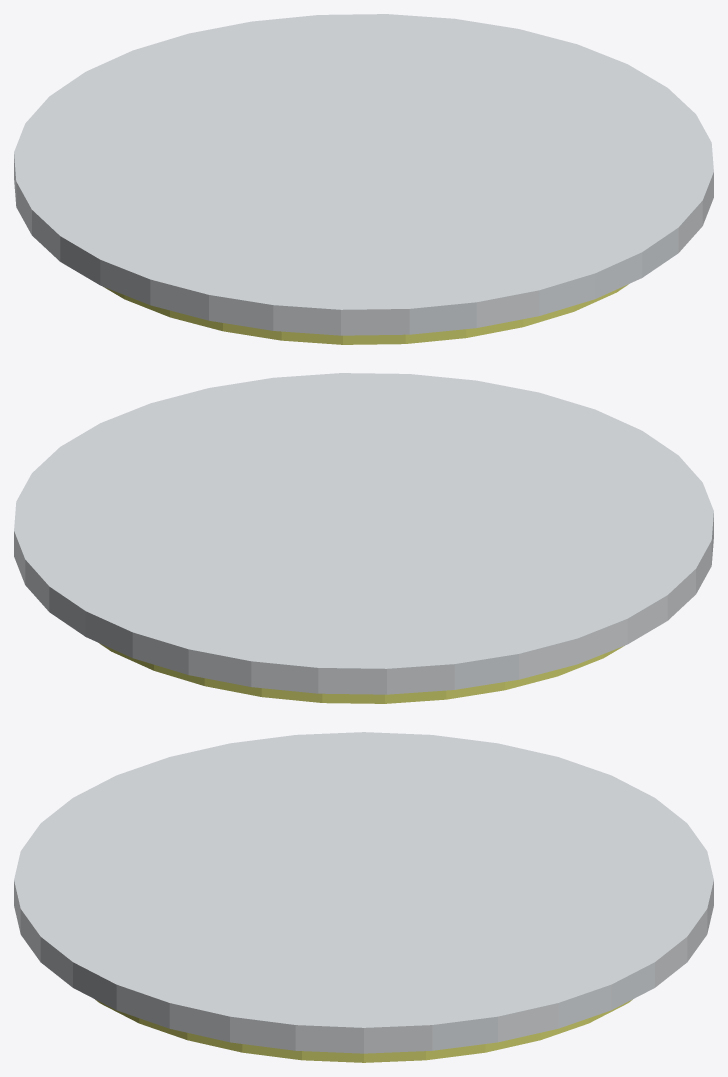
File: lamp gang.fbx
3 views of the same model, one above another, from view 1: azimuth 30°, elevation 25°; view 2: azimuth 150°, elevation 25°; view 3: azimuth 270°, elevation 25° (orthographic).
Visible parts, largest first — view 1: gang lamp1; view 2: gang lamp1; view 3: gang lamp1.
Part boxes in pixels (left/top/right/bottom): gang lamp1: left=14, top=14, right=713, bottom=344; gang lamp1: left=14, top=373, right=713, bottom=703; gang lamp1: left=14, top=732, right=713, bottom=1062.
Bounding box in the file's own units: 10944 × 1314 × 10944.
